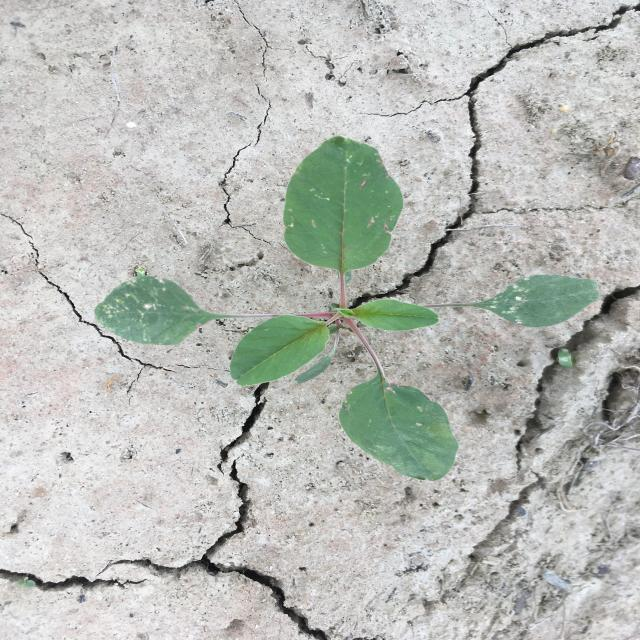PalmerAmaranth: (95, 136, 601, 481)
